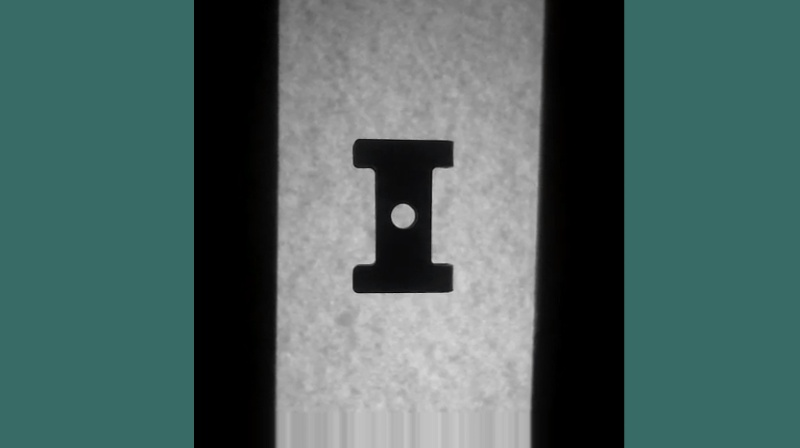O002: (348, 135, 455, 296)
